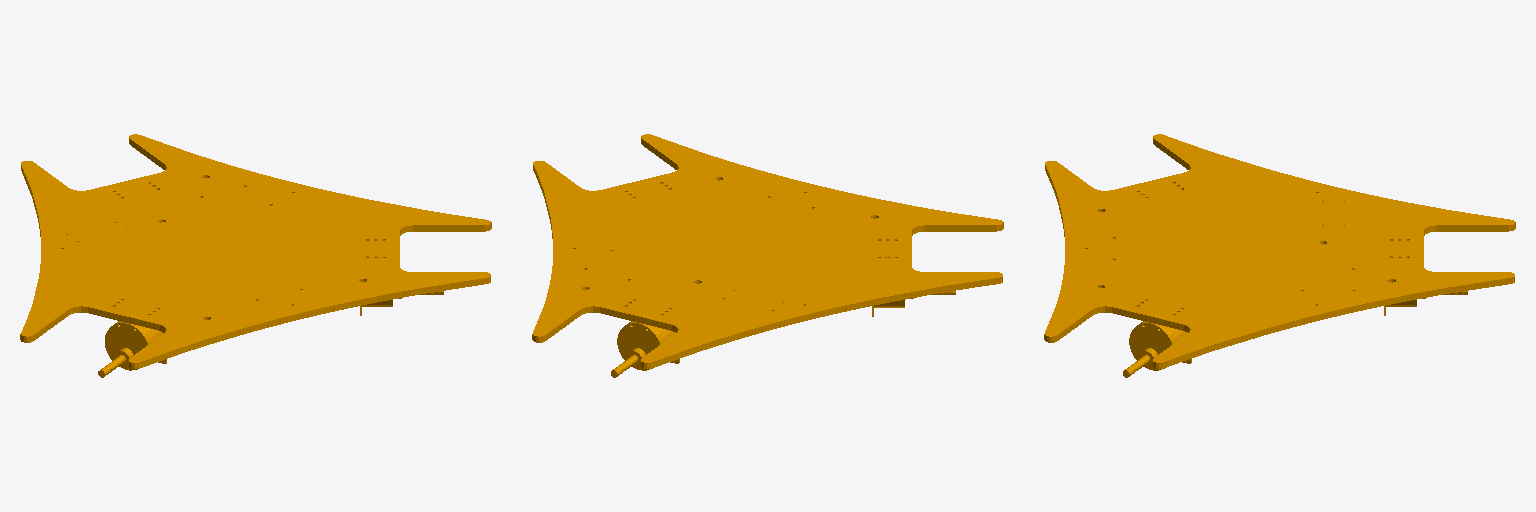
The robot description file, URDF, robot "hola_bot":
<?xml version="1.0" encoding="utf-8"?>
<!--First version of this URDF was automatically created by SolidWorks to URDF Exporter!
    as part of eYSIP 2022 
    Originally created by [author] ([email redacted]) 
    Commit Version: 1.6.0-4-g7f85cfe  Build Version: 1.6.7995.38578
    For more information, please see http://wiki.ros.org/sw_urdf_exporter 

    This version of the URDF is made after a lot of simplification by the e-Yantra Team ([author]) -->
<robot
  name="hola_bot">

  <!-- Chassis -->

  <link
    name="base_link">
    <inertial>
      <origin
        xyz="0 0 0"
        rpy="0 0 0" />
      <mass
        value="1" />
      <inertia
        ixx="0.005627"
        ixy="0"
        ixz="0"
        iyy="0.005627"
        iyz="0"
        izz="0.01125" />
    </inertial>
    <visual>
      <origin
        xyz="0 0 0"
        rpy="0 0 1.57" />
      <geometry>
        <mesh
          filename="package://your_package_name/meshes/base_link.obj" />
      </geometry>
    </visual>
    <collision>
      <origin
        xyz="0 0 -0.01"
        rpy="0 0 1.57" />
      <geometry>
        <cylinder radius="0.15" length="0.005"/>
      </geometry>
    </collision>
  </link>


  <!-- Front Wheel -->

  <!-- Front Wheel Link -->
  <link
    name="front_wheel">
    <inertial>
      <origin
        xyz="0 0 0"
        rpy="0 0 0" />
      <mass
        value="0.060" />
      <inertia
        ixx="0.00001352"
        ixy="0"
        ixz="0"
        iyy="0.000027"
        iyz="0"
        izz="0.00001352" />
    </inertial>
    <visual>
      <origin
        xyz="0 0 0"
        rpy="0 0 0" />
      <geometry>
        <mesh
          filename="package://your_package_name/meshes/wheel.STL" />
      </geometry>
    </visual>
    <collision>
      <origin
        xyz="0 -.01 0"
        rpy="1.57 0 0" />
      <geometry>
        <cylinder radius=".03" length="0.02"/>
      </geometry>
    </collision>
  </link>

  <!-- Front Wheel Joint -->

  <joint
    name="front_joint"
    type="revolute">
    <origin
      xyz="0 0.17483 0"
      rpy="0 0 0" />
    <parent
      link="base_link" />
    <child
      link="front_wheel" />
    <axis
      xyz="0 -1 0" />
    <limit
      effort="5"
      velocity="5" />
  </joint>
  
  <!-- Left Wheel -->

  <!-- Left Wheel Link -->
  <link
    name="left_wheel">
    <inertial>
      <origin
        xyz="0 0 0"
        rpy="0 0 0" />
      <mass
        value="0.060" />
      <inertia
        ixx="0.00001352"
        ixy="0"
        ixz="0"
        iyy="0.000027"
        iyz="0"
        izz="0.00001352" />
    </inertial>
    <visual>
      <origin
        xyz="0 0 0"
        rpy="0 0 0" />
      <geometry>
        <mesh
          filename="package://your_package_name/meshes/wheel.STL" />
      </geometry>
      <material
        name="">
        <color
          rgba="0.4 0.4 0.4 1" />
      </material>
    </visual>
    <collision>
      <origin
        xyz="0 -0.01 0"
        rpy="1.57 0 0" />
      <geometry>
        <cylinder radius=".03" length="0.02"/>
      </geometry>
    </collision>
  </link>

  <!-- Left Wheel Joint -->
  <joint
    name="left_joint"
    type="revolute">
    <origin
      xyz="-0.15154 -0.087275 0"
      rpy="0 0 2.094" />
    <parent
      link="base_link" />
    <child
      link="left_wheel" />
    <axis
      xyz="0 1 0" />
    <limit
      effort="5"
      velocity="5" />
  </joint>


  <!-- Right Wheel -->
  <!-- Right Wheel Link -->
  <link
    name="right_wheel">
    <inertial>
      <origin
        xyz="0 0 0"
        rpy="0 0 0" />
      <mass
        value="0.060" />
      <inertia
        ixx="0.00001352"
        ixy="0"
        ixz="0"
        iyy="0.000027"
        iyz="0"
        izz="0.00001352" />
    </inertial>
    <visual>
      <origin
        xyz="0 0 0"
        rpy="0 0 0" />
      <geometry>
        <mesh
          filename="package://your_package_name/meshes/wheel.STL" />
      </geometry>
      <material
        name="">
        <color
          rgba="0.4 0.4 0.4 1" />
      </material>
    </visual>
    <collision>
      <origin
        xyz="0 -0.01 0"
        rpy="1.57 0 0" />
      <geometry>
        <cylinder radius=".03" length="0.02"/>
      </geometry>
    </collision>
  </link>

  <!-- Right Wheel Joint -->

  <joint
    name="right_joint"
    type="revolute">
    <origin
      xyz="0.15154 -0.087275 0"
      rpy="0 0 -2.094" />
    <parent
      link="base_link" />
    <child
      link="right_wheel" />
    <axis
      xyz="0 1 0" />
    <limit
      effort="5"
      velocity="5" />
  </joint>


 <gazebo>
    <plugin name="object_controller" filename="libgazebo_ros_planar_move.so">
    </plugin>
  </gazebo>   

 <gazebo>
    <plugin name="right_force" filename="libcustom_force.so" >
      <bodyName>right_wheel</bodyName>
      <topicName>right_wheel_force</topicName>
    </plugin>
  </gazebo>

  <gazebo>
    <plugin name="left_force" filename="libcustom_force.so" >
      <bodyName>left_wheel</bodyName>
      <topicName>left_wheel_force</topicName>
    </plugin>
  </gazebo>

  <gazebo>
    <plugin name="front_force" filename="libcustom_force.so" >
      <bodyName>front_wheel</bodyName>
      <topicName>front_wheel_force</topicName>
    </plugin>
  </gazebo>
  
</robot>

   

--- Render facts (derived) ---
3 views of the same robot in one strip: view 1: azimuth 30°, elevation 25°; view 2: azimuth 150°, elevation 25°; view 3: azimuth 270°, elevation 25° (orthographic).
Robot: hola_bot — 4 links, 3 joints (3 revolute); root link base_link; default pose: all joints at 0.
Links seen in each view (by area): view 1: base_link; view 2: base_link; view 3: base_link.
Link boxes in pixels (x1,y1,x2,y2): base_link: (20,134,491,377); base_link: (532,134,1003,377); base_link: (1044,134,1515,377).
Bounding box of the posed robot: 0.3908 × 0.34 × 0.0454 m (x, y, z).
1 mesh visuals loaded from 2 distinct referenced files (1 OBJ); not drawn: 3 (reference not matched to a file when rendering).